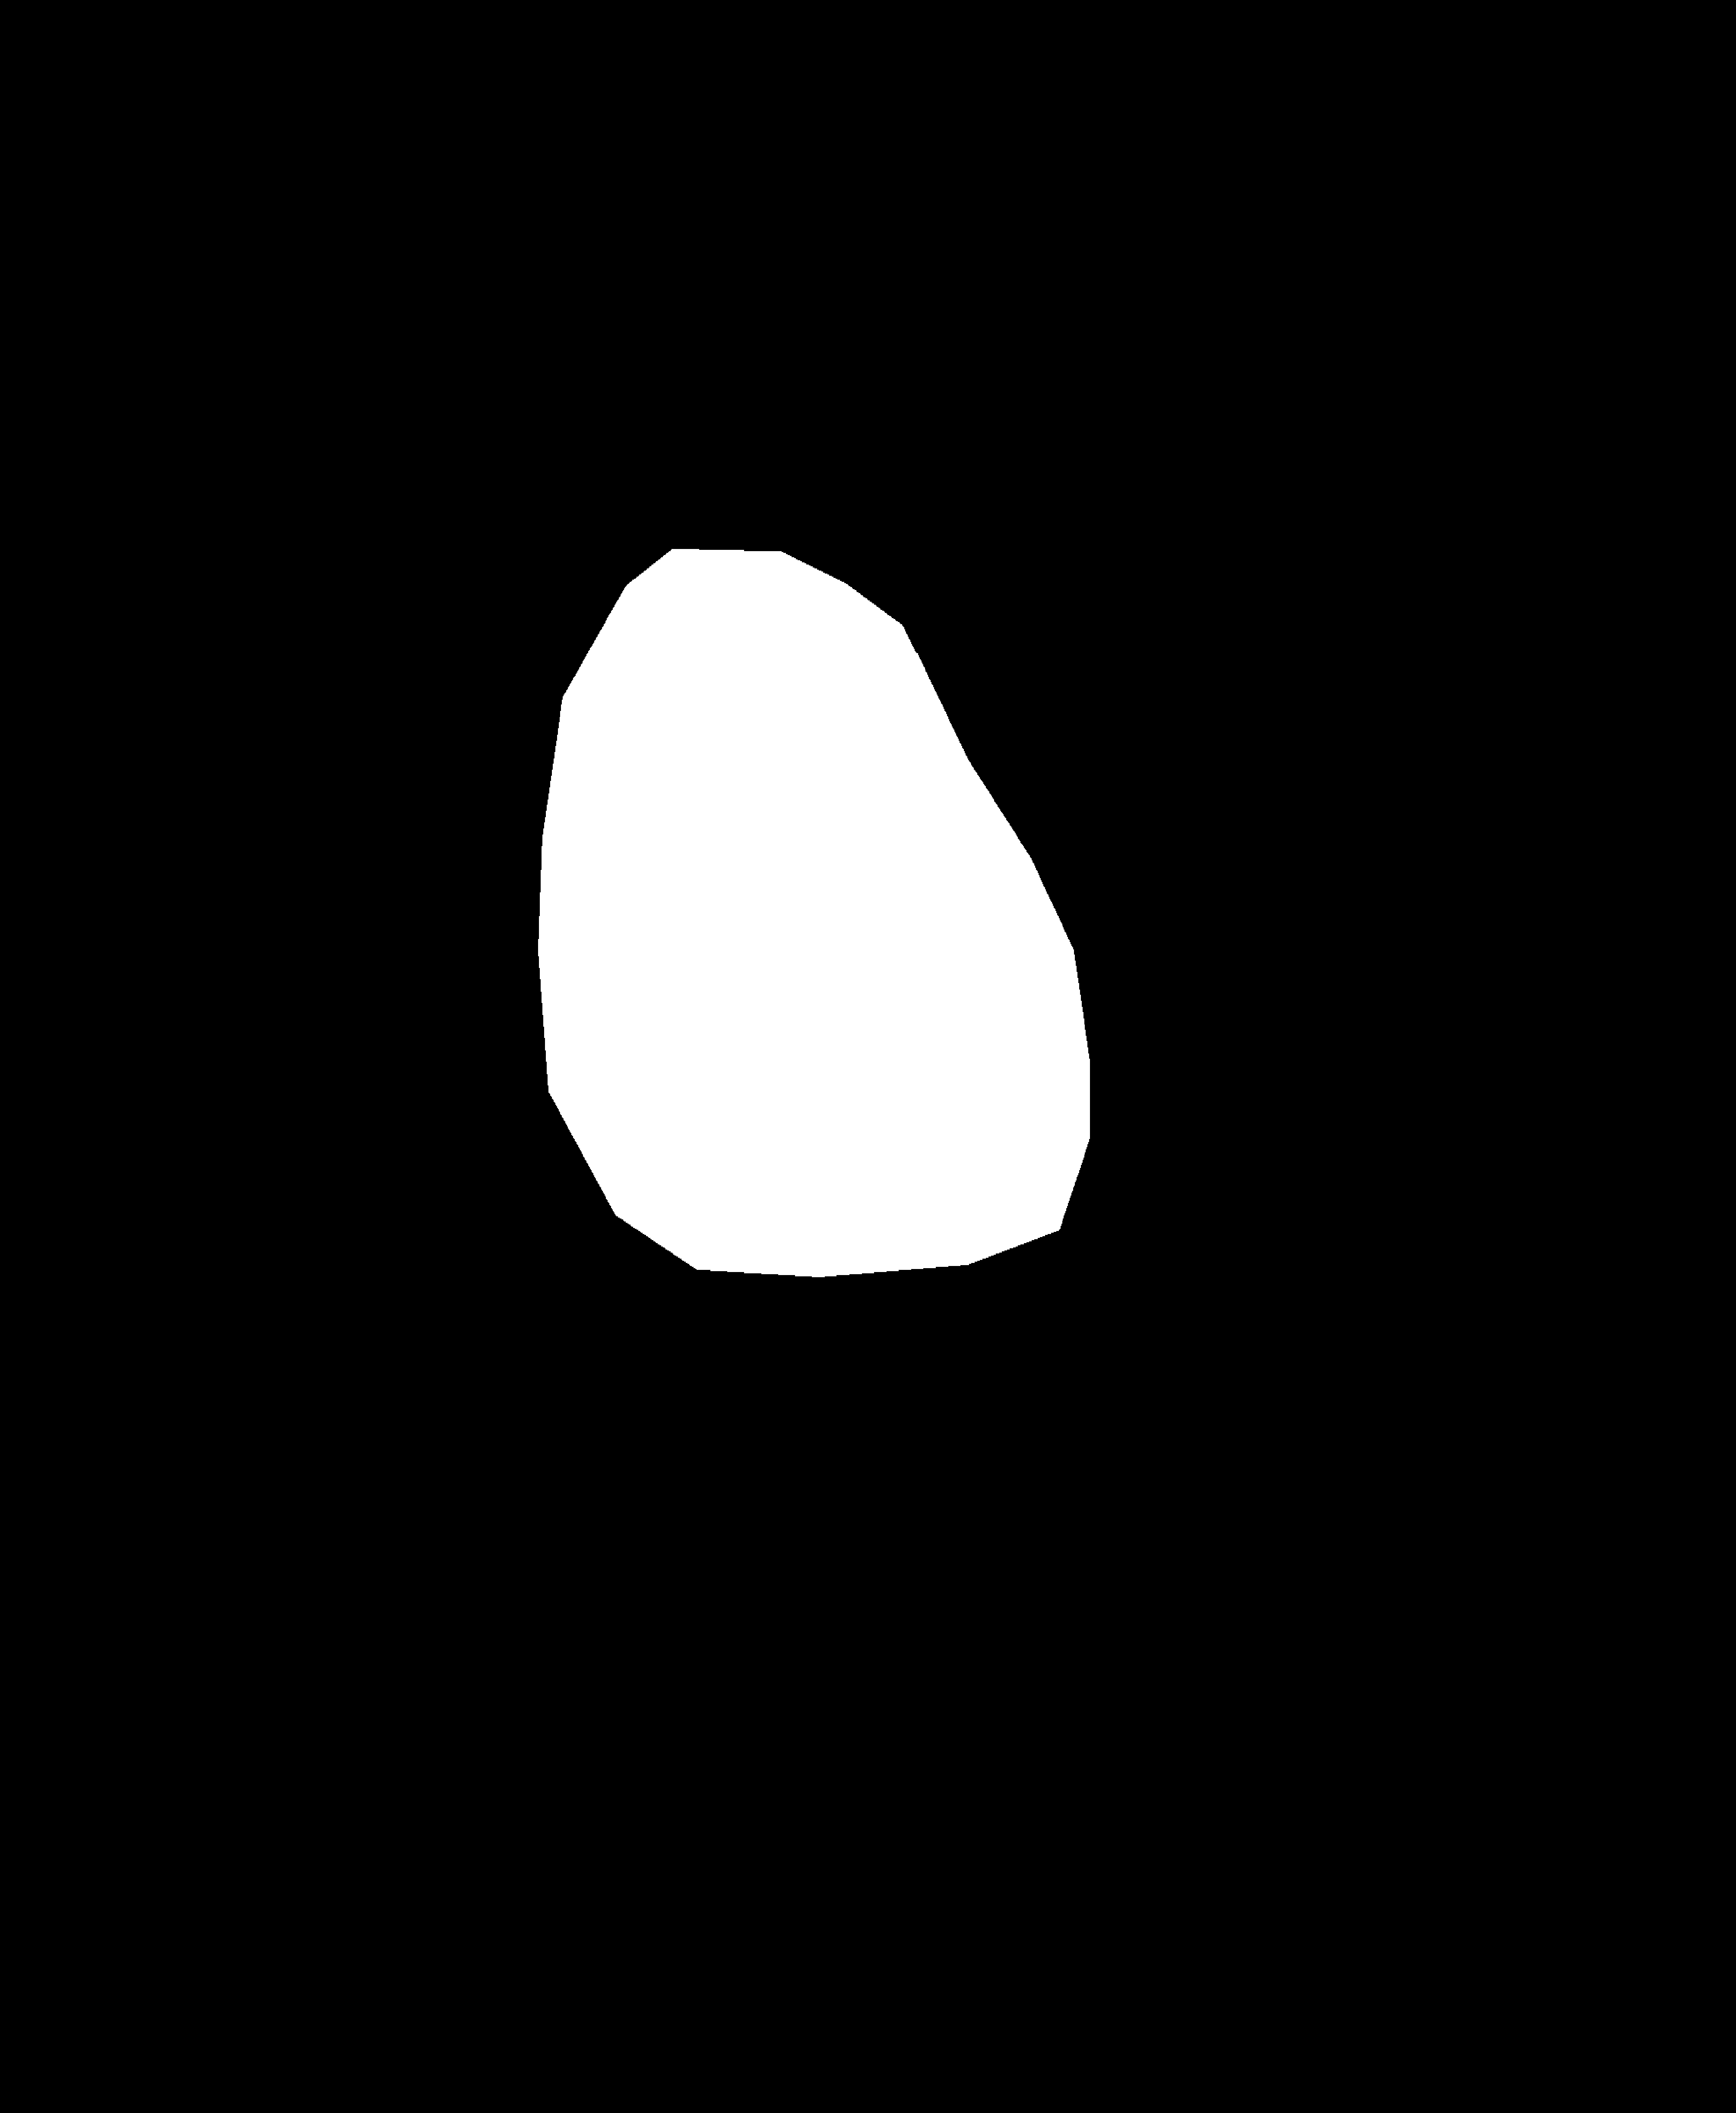heart: (499, 828, 1311, 1281)
left_lung: (202, 254, 646, 1337)
right_lung: (816, 237, 1313, 1227)
